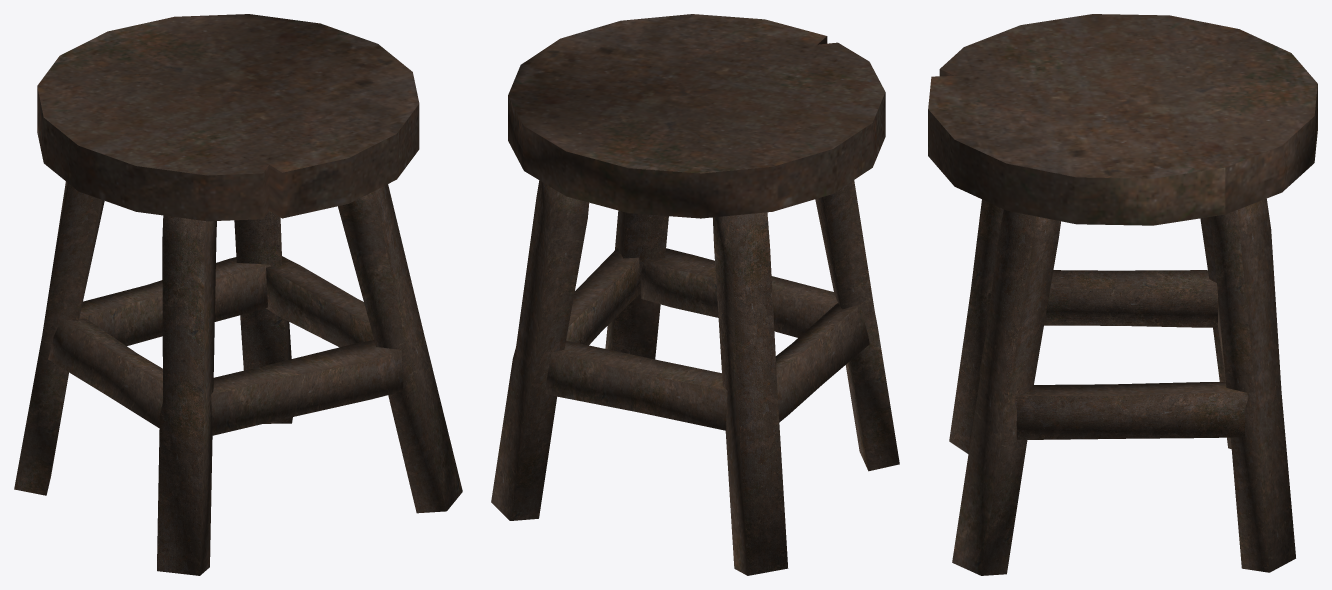
Rendered from stool.fbx.
The picture shows the model from 3 angles, left to right: view 1: azimuth 30°, elevation 25°; view 2: azimuth 150°, elevation 25°; view 3: azimuth 270°, elevation 25°; orthographic projection. The views are drawn at different scales.
Visible parts, largest first — view 1: SM_Stool; view 2: SM_Stool; view 3: SM_Stool.
Boxes of the visible parts, <box> form: SM_Stool: <box>14,14,462,575</box>; SM_Stool: <box>491,14,899,575</box>; SM_Stool: <box>928,14,1317,575</box>.
Bounding box in the file's own units: 2.58 × 3.04 × 2.57.
